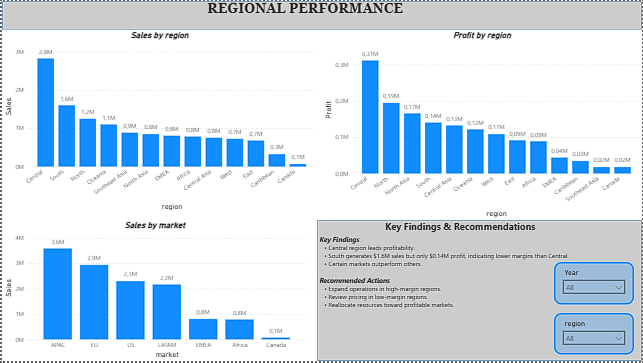

Layout of this report page (visuals, bound fields, positions):
{"tool":"powerbi","page":{"name":"Page 4 — Regional Analysis","canvas":[1280,720],"ordinal":4},"visuals":[{"type":"columnChart","fields":{"Category":["store.region"],"Y":["Sum(store.sales)"]},"box":[0,58.5,630.8,366.2],"z":0},{"type":"columnChart","fields":{"Category":["store.region"],"Y":["Sum(store.profit)"]},"box":[640,58.5,640,380],"z":1000},{"type":"columnChart","fields":{"Y":["Sum(store.sales)"],"Category":["store.market"]},"box":[0,438.3,611.7,281.7],"z":2000},{"type":"shape","box":[630,438.3,650,281.7],"z":3000},{"type":"textbox","title":"Key Findings & Recommendations","box":[630,438.3,573.3,281.7],"z":4000},{"type":"shape","box":[0,0,1280,58.5],"z":5000},{"type":"textbox","title":"REGIONAL PERFORMANCE ","box":[258.5,0,696.9,58.5],"z":6000},{"type":"slicer","fields":{"Values":["dim_location.region"]},"box":[1104.6,624.6,160,83.1],"z":7000},{"type":"slicer","fields":{"Values":["dim_date.Year"]},"box":[1104.6,521.5,160,84.6],"z":8000}]}

Visuals, with their boxes in screenshot pixels (x1, y1, x2, y2), scaled from the page's 1280x720 canvas onto the 643x363 screenshot:
columnChart - store.region x Sum(store.sales): bbox=[0, 29, 317, 214]
columnChart - store.region x Sum(store.profit): bbox=[322, 29, 642, 221]
columnChart - Sum(store.sales) x store.market: bbox=[0, 221, 307, 362]
shape: bbox=[316, 221, 642, 362]
"Key Findings & Recommendations" textbox: bbox=[316, 221, 604, 362]
shape: bbox=[0, 0, 642, 29]
"REGIONAL PERFORMANCE " textbox: bbox=[130, 0, 480, 29]
slicer - dim_location.region: bbox=[555, 315, 635, 357]
slicer - dim_date.Year: bbox=[555, 263, 635, 306]
